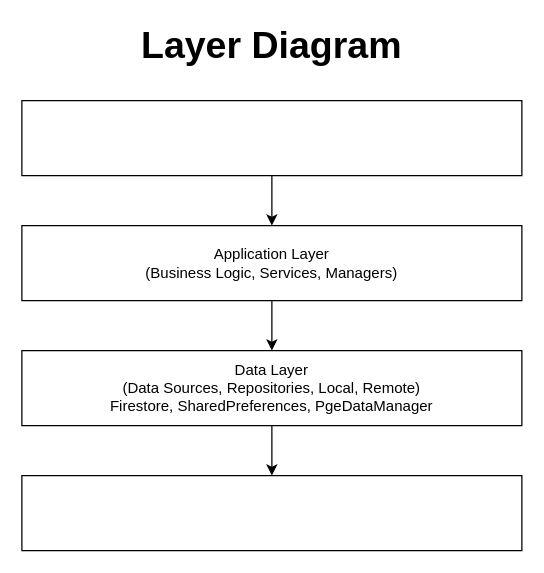
Image size: 544x573. Some labels were removed from this diagram. The centre of each missing label's shape, as x and y in pixels:
"External APIs (Firebase, UtilityAPI, Charts API, Gemini API)" belongs at (271,512).
"Presentation Layer (Activities, XML UI)" belongs at (271,137).
